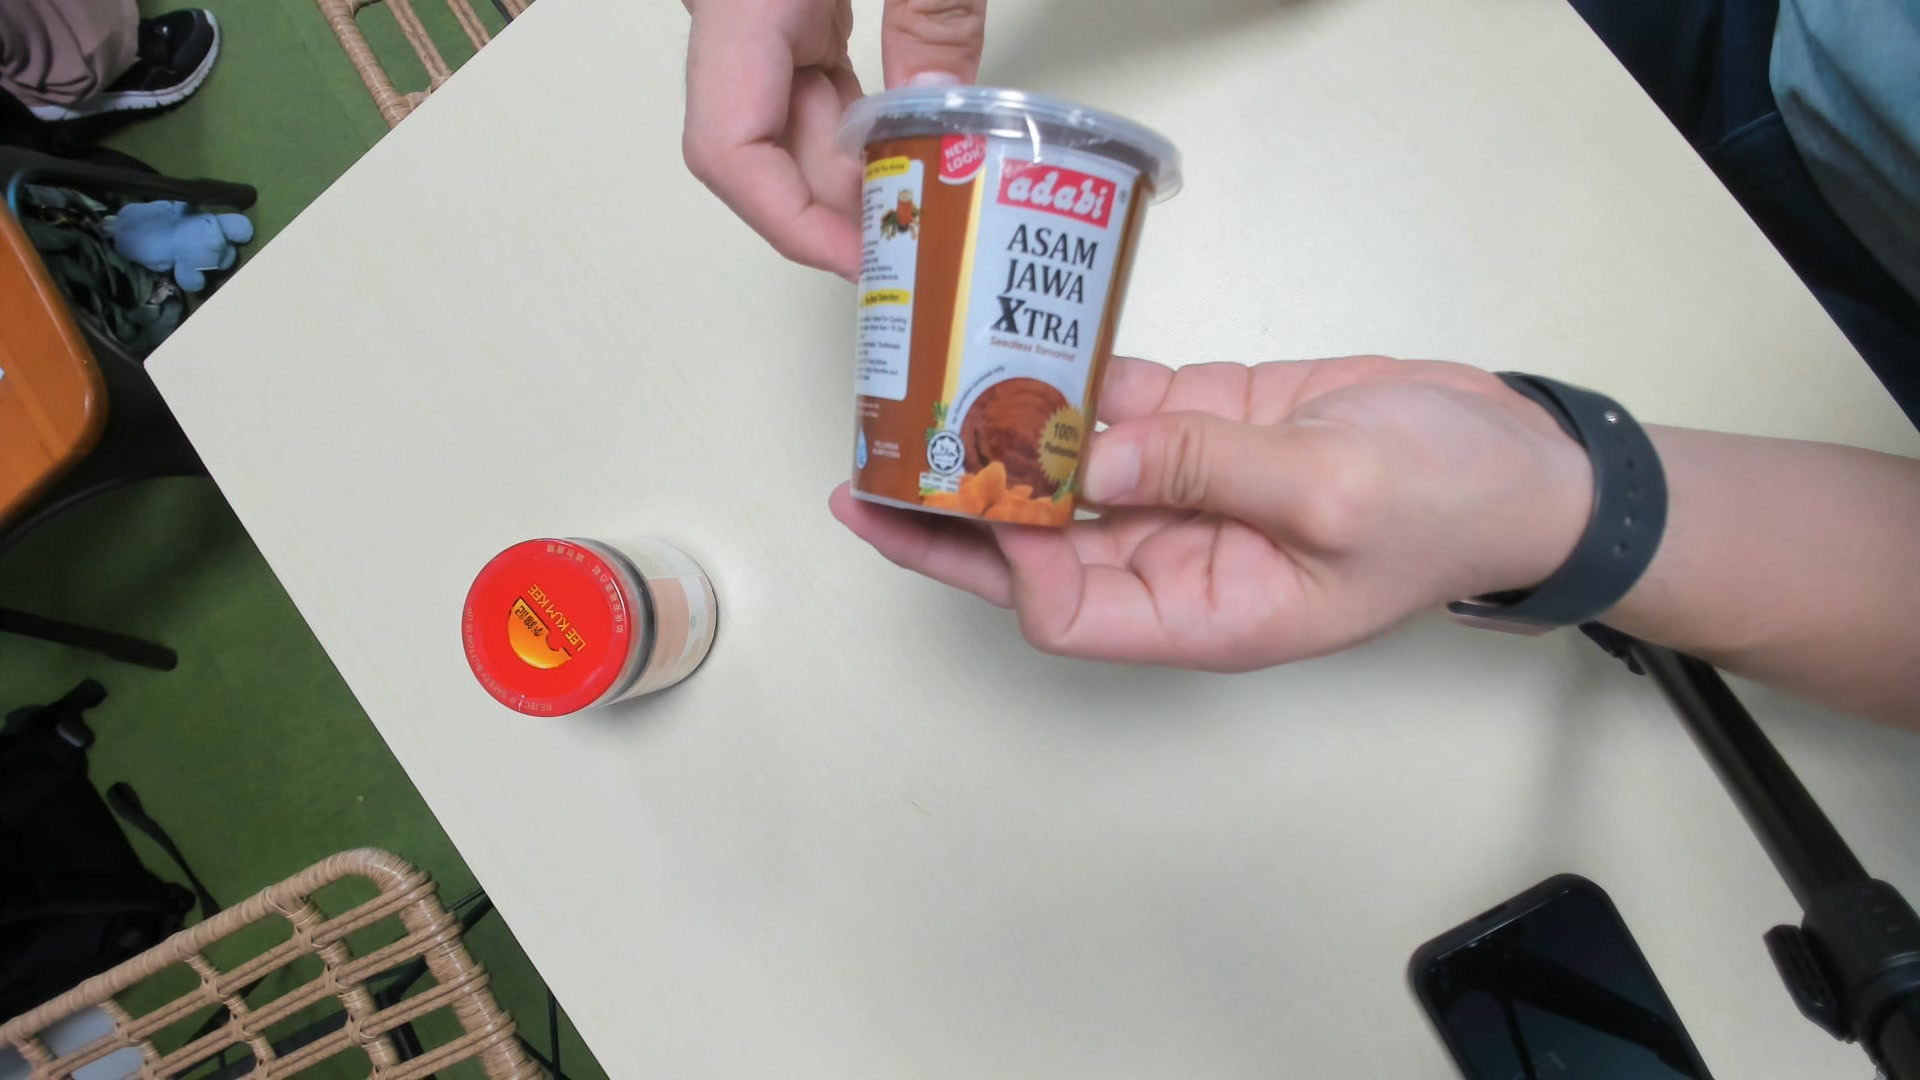OtherSauceDressing_200-299g_Halal_NonHealthy: (836, 80, 1183, 545)
